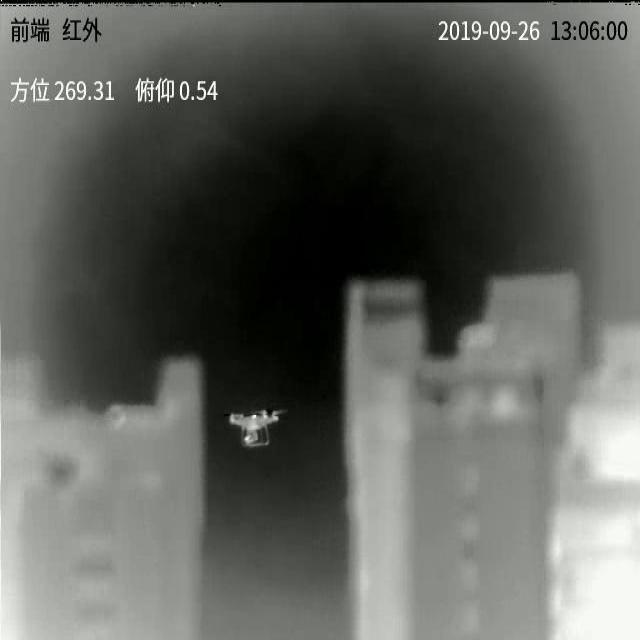drone: (229, 410, 286, 447)
